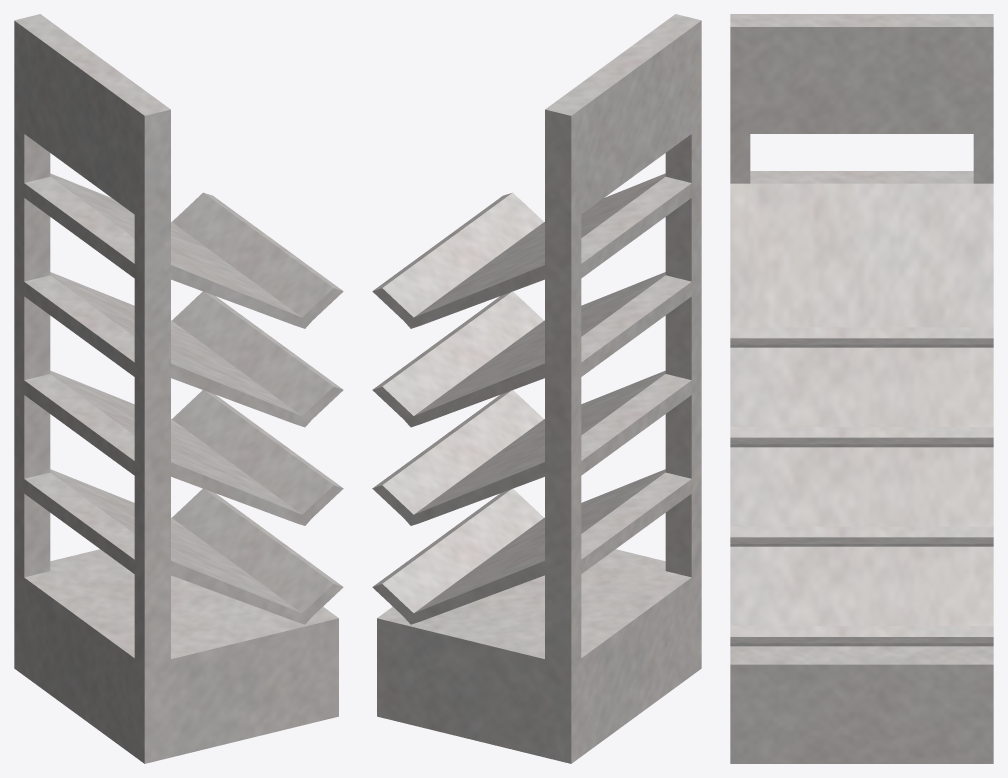
The model's file is newspaper_Stand.fbx.
The picture shows the model from 3 angles, left to right: view 1: azimuth 30°, elevation 25°; view 2: azimuth 150°, elevation 25°; view 3: azimuth 270°, elevation 25°; orthographic projection.
Parts seen in each view (by area): view 1: newspaper_stand; view 2: newspaper_stand; view 3: newspaper_stand.
Part boxes in pixels (x1,y1,x2,y2): newspaper_stand: [14, 14, 343, 763]; newspaper_stand: [372, 14, 701, 763]; newspaper_stand: [730, 14, 993, 763].
Bounding box in the file's own units: 63.34 × 197 × 71.91.
